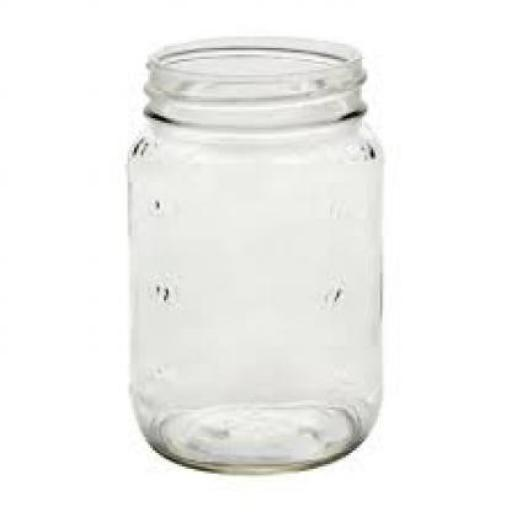glass: (128, 34, 382, 471)
